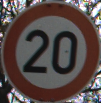20 km speed: (1, 1, 101, 102)
